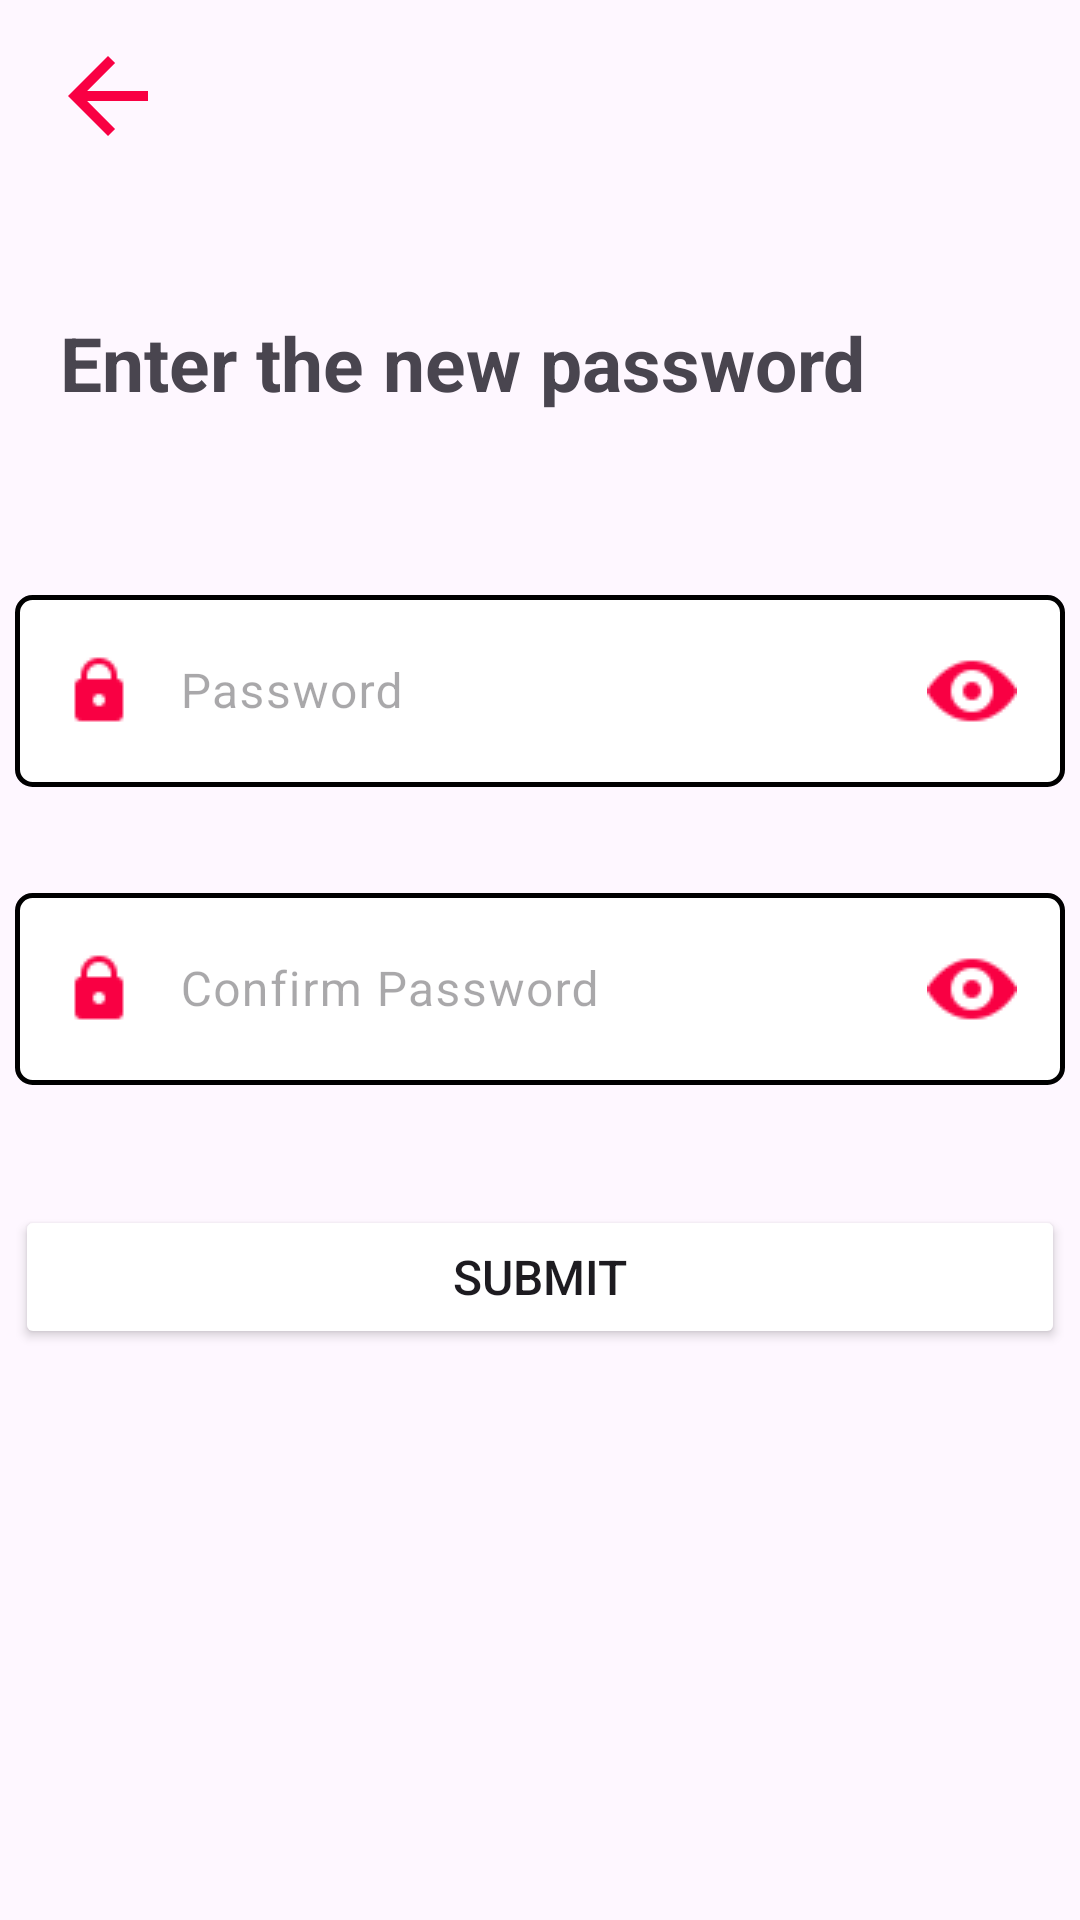

Icons on this 1080px x 1920px Android screen, each with the point to tap as point (x, y):
arrow back: point (108, 96)
